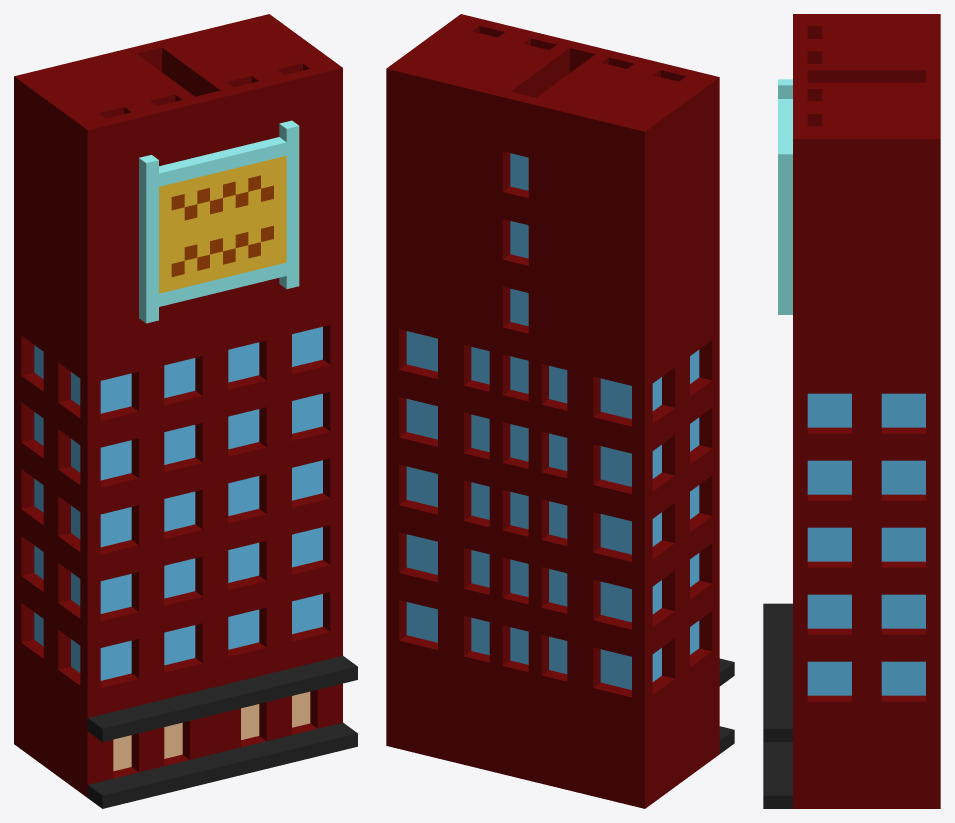
File: Building 5.obj
3 views of the same model, side by side, from view 1: azimuth 30°, elevation 25°; view 2: azimuth 150°, elevation 25°; view 3: azimuth 270°, elevation 25° (orthographic).
Bounding box in the file's own units: 2 × 5 × 1.2.
Materials: 1 (1 with a texture image).
